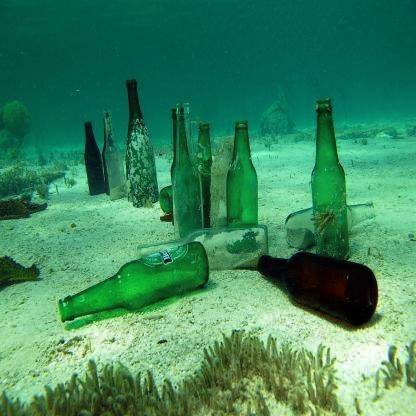gbottle: (57, 241, 208, 326), (258, 250, 378, 326), (137, 224, 268, 271), (310, 100, 348, 261), (286, 202, 377, 250), (172, 103, 204, 239), (126, 80, 158, 206), (227, 121, 258, 249), (102, 112, 128, 200), (213, 139, 234, 226), (198, 123, 214, 226), (84, 119, 105, 196)
